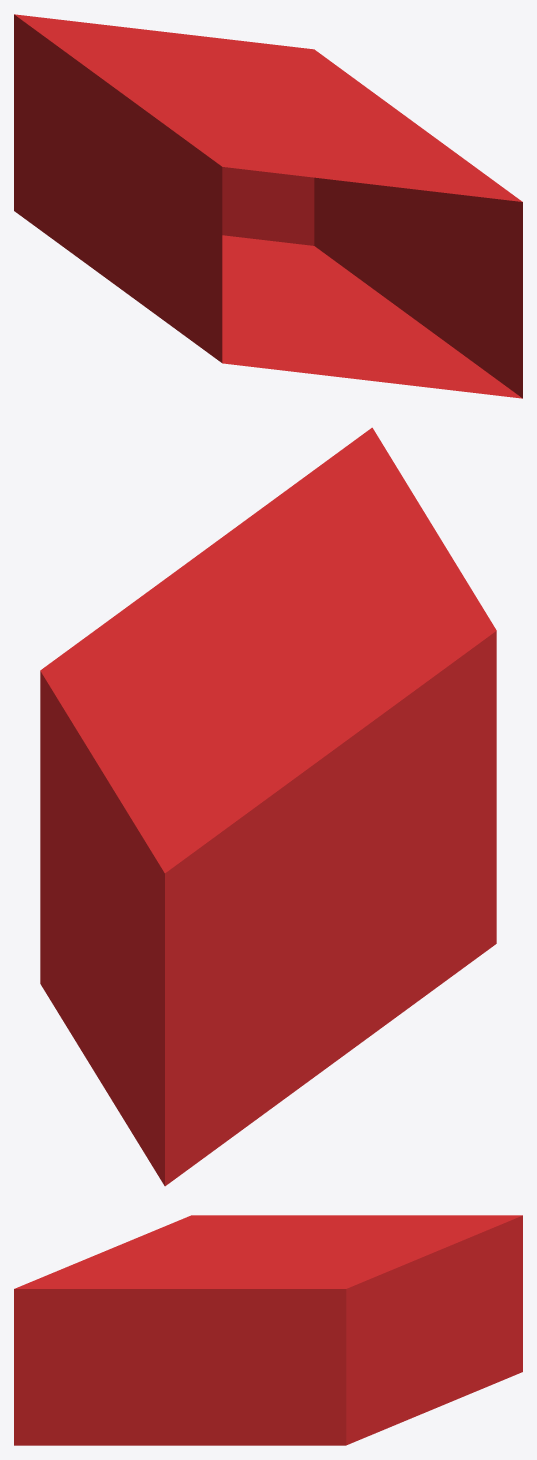
File: FrameColliderLeftIslandUpper.fbx
The picture shows the model from 3 angles, top to bottom: view 1: azimuth 30°, elevation 25°; view 2: azimuth 150°, elevation 25°; view 3: azimuth 270°, elevation 25°; orthographic projection. The views are drawn at different scales.
Visible parts, largest first — view 1: ColliderLeftIslandUpper; view 2: ColliderLeftIslandUpper; view 3: ColliderLeftIslandUpper.
Part boxes in pixels (<box>): ColliderLeftIslandUpper: <box>14,14,522,398</box>; ColliderLeftIslandUpper: <box>40,427,496,1186</box>; ColliderLeftIslandUpper: <box>14,1215,522,1445</box>.
Bounding box in the file's own units: 16.4 × 16.27 × 47.95.
